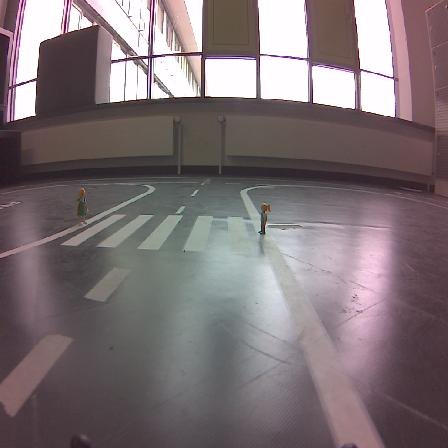CHILD: (259, 203, 270, 234)
PERSON: (77, 188, 87, 225)
